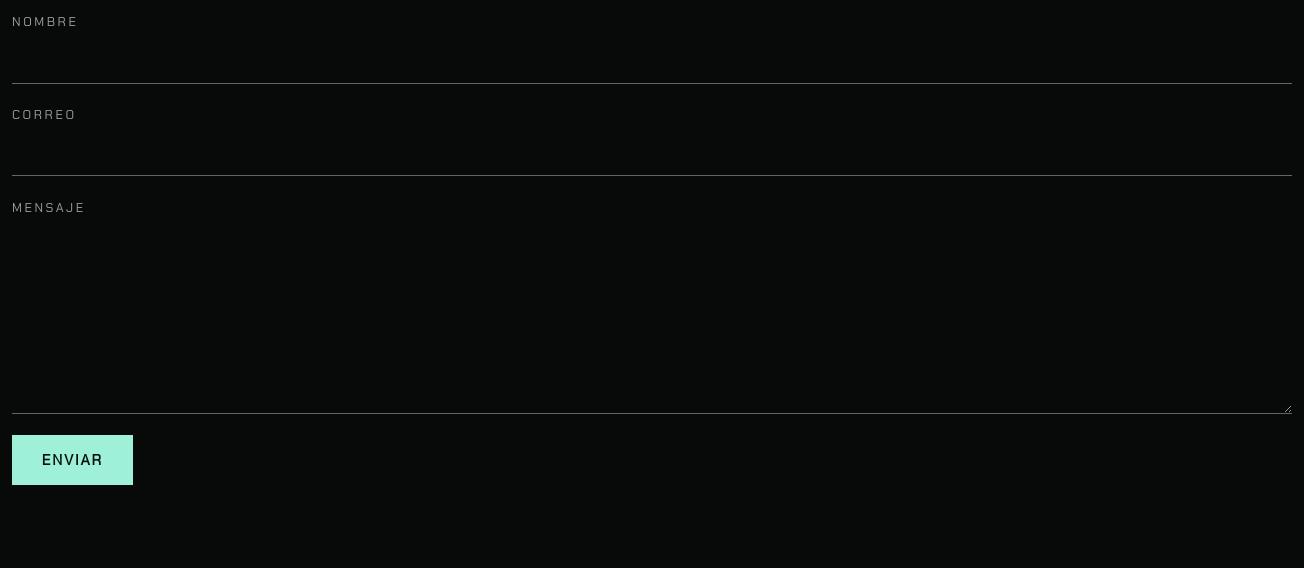
it: ContactForm › with invalid data (422) shows the error and keeps what was typed
Type "Ana" into the field labelled "Nombre" at point(652, 60), box x1=12 y1=37 x2=1292 y2=84
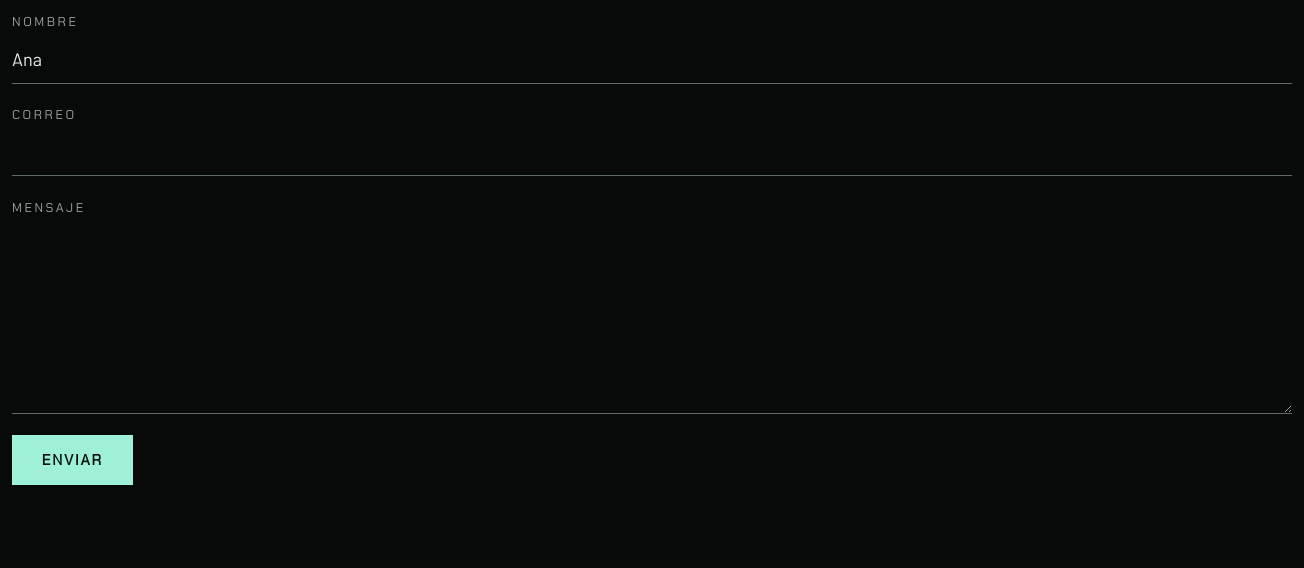
Type "ana@example.com" into the field labelled "Correo" at point(652, 153), box x1=12 y1=129 x2=1292 y2=176
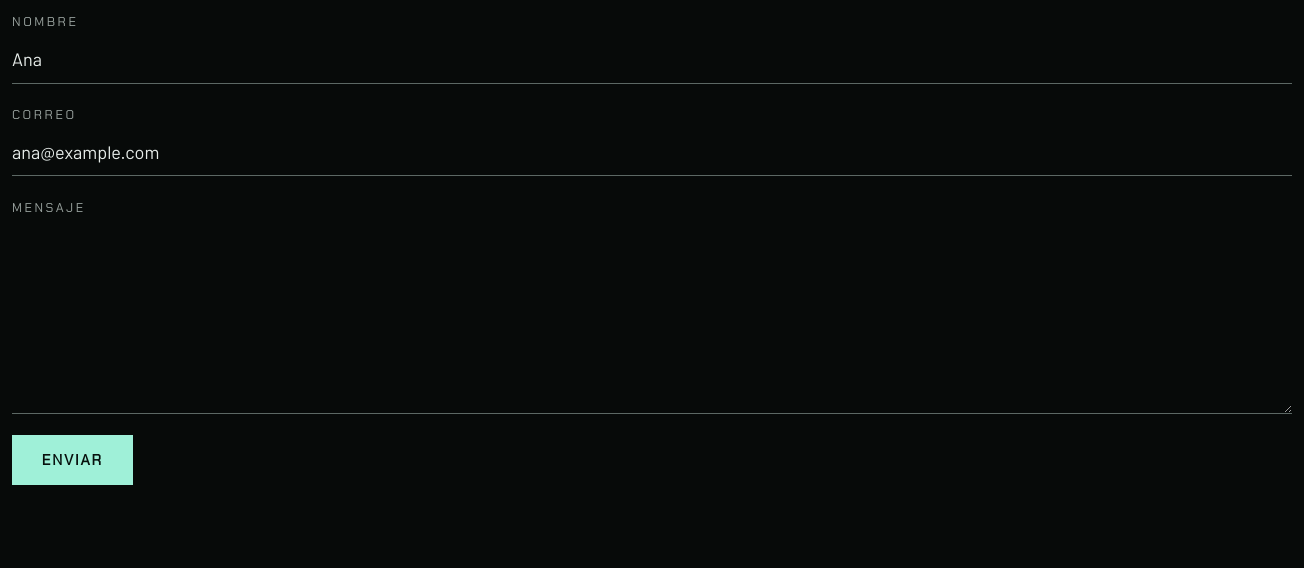
Type "Hola" into the text box labelled "Mensaje" at point(652, 318), box x1=12 y1=222 x2=1292 y2=414
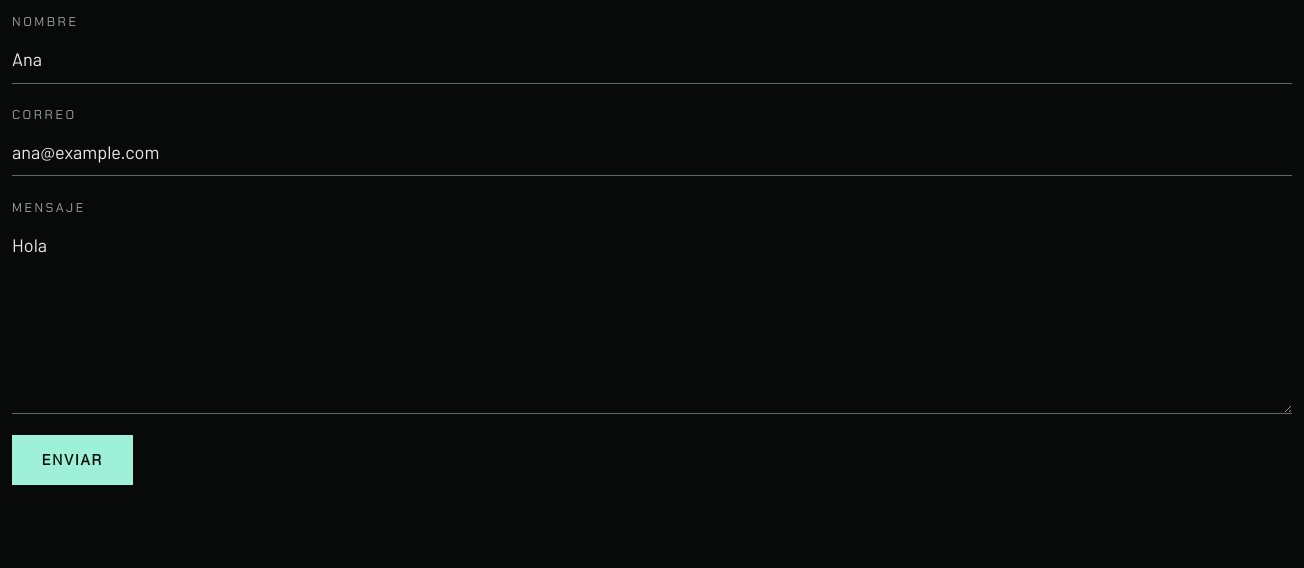
Click the button "Enviar" at point(72, 460), box x1=12 y1=435 x2=133 y2=485
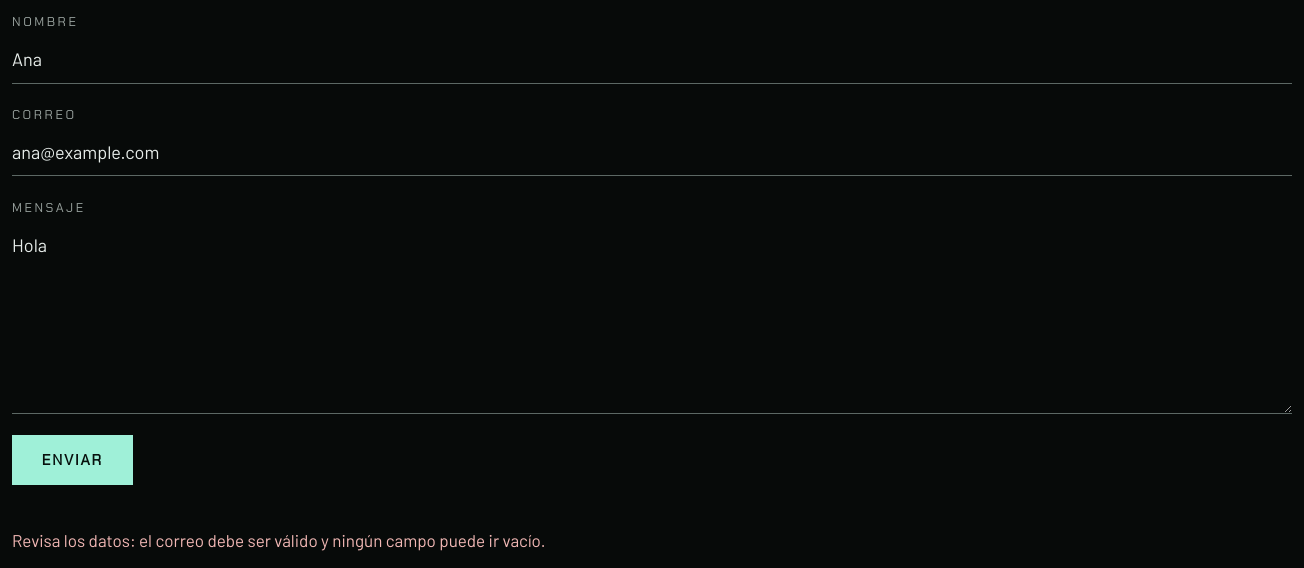
Check: the message shows "Revisa los datos", box x1=12 y1=530 x2=545 y2=550
